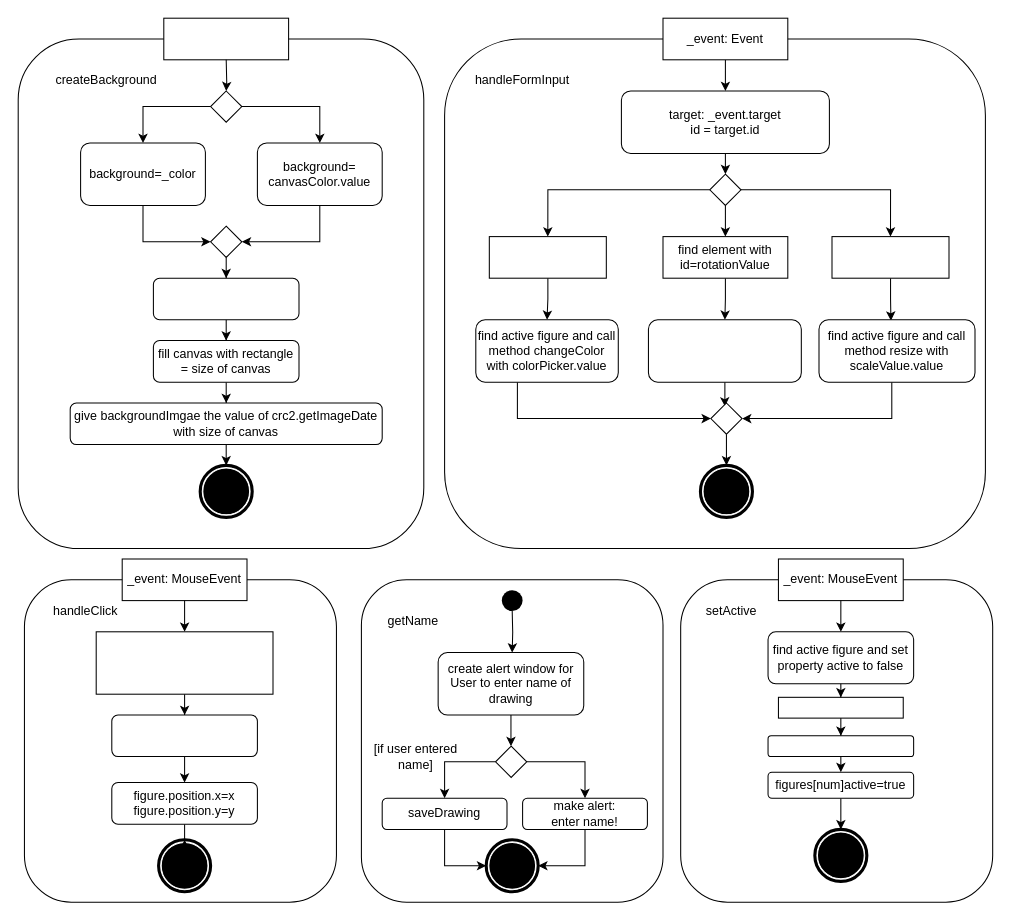
Image size: 1011x920. Some labels were removed from this diagram. The shapes that lost their labels are listed below. From the top down, each one's centre as x and y in pixels, then its label:
At (x=226, y=38): "_color?: string".
At (x=547, y=257): "find element with id=colorPicker".
At (x=890, y=257): "find element with id=scaleValue".
At (x=225, y=298): "fill background with color value".
At (x=724, y=350): "find active figure and call method changeRotation with rotationValue.value".
At (x=184, y=662): "x= x-Position of Mouse y_ y-Position of Mouse".
At (x=840, y=707): "target=_event.target".
At (x=184, y=735): "find active figure".
At (x=840, y=746): "num=id-string to number".
